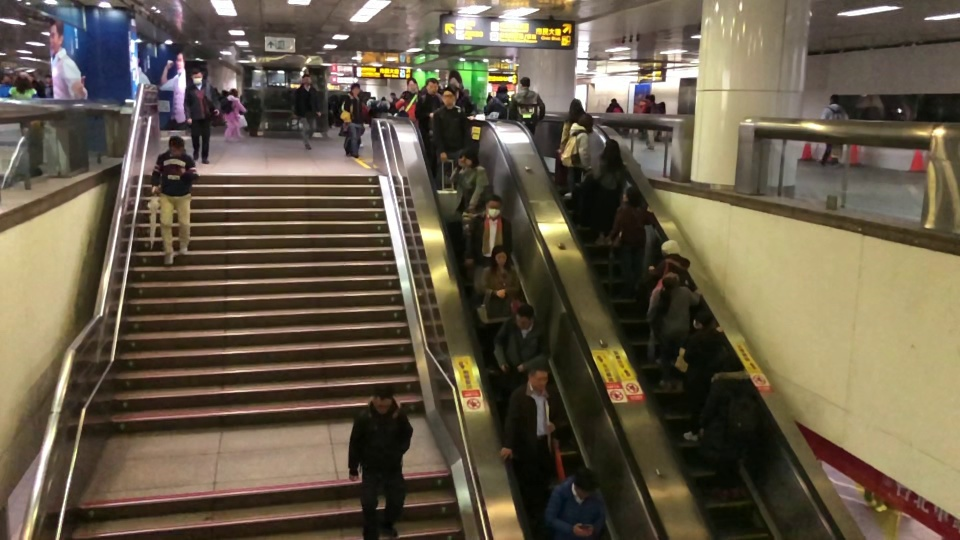person_head: (571, 465, 600, 500), (527, 355, 551, 391), (369, 384, 394, 416), (717, 348, 744, 374), (514, 303, 535, 330), (490, 244, 510, 269), (484, 193, 503, 219), (621, 185, 642, 207), (692, 309, 714, 330), (459, 149, 480, 169), (167, 135, 185, 157), (576, 112, 594, 134), (440, 86, 457, 109), (660, 239, 680, 258), (602, 137, 620, 158), (661, 272, 680, 291), (567, 97, 584, 118), (13, 71, 32, 88), (424, 77, 439, 96), (190, 68, 203, 86), (405, 77, 419, 93), (349, 82, 361, 95), (301, 74, 312, 87), (519, 76, 530, 89), (496, 85, 508, 96), (829, 93, 840, 104), (43, 74, 53, 85), (28, 71, 37, 81), (228, 88, 238, 97), (485, 94, 493, 105), (647, 94, 655, 105), (456, 87, 463, 99), (0, 69, 5, 84), (609, 97, 617, 104), (389, 92, 396, 99), (380, 95, 386, 101), (371, 96, 375, 101)
person_vbox: (346, 384, 415, 540), (498, 355, 557, 529), (697, 348, 759, 501), (645, 272, 702, 392), (150, 135, 199, 266), (606, 185, 655, 299), (682, 309, 724, 442), (478, 244, 521, 373), (542, 465, 607, 540), (584, 137, 627, 246), (431, 86, 473, 188), (493, 303, 551, 376), (462, 193, 513, 268), (182, 67, 220, 165), (557, 98, 584, 196), (448, 149, 488, 213), (565, 112, 594, 198), (413, 77, 443, 160), (291, 73, 322, 150), (817, 93, 849, 167), (508, 76, 546, 138), (647, 239, 691, 287), (341, 82, 364, 149), (222, 88, 247, 141), (395, 77, 419, 120), (642, 94, 660, 151), (7, 71, 39, 99), (487, 85, 512, 120), (28, 71, 46, 99), (456, 87, 473, 113), (0, 69, 11, 98), (605, 97, 624, 113), (376, 95, 391, 114), (43, 75, 53, 99), (482, 94, 493, 115), (389, 91, 399, 112), (366, 95, 375, 107)
